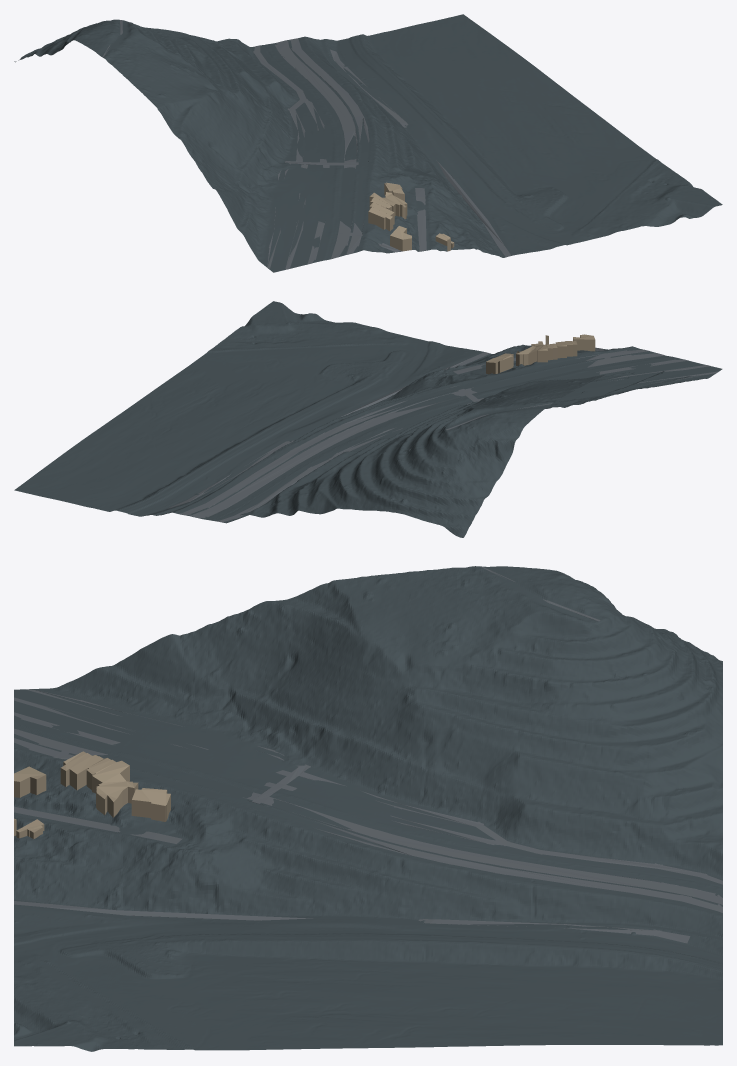
The model's file is epsg26910-1442-10870.lod0.glb.
3 renders of one model, top to bottom at view 1: azimuth 30°, elevation 25°; view 2: azimuth 150°, elevation 25°; view 3: azimuth 270°, elevation 25°, orthographic. The views are drawn at different scales.
Visible parts, largest first — view 1: epsg26910-1442-10870-lod0; view 2: epsg26910-1442-10870-lod0; view 3: epsg26910-1442-10870-lod0.
Part boxes in pixels (bbox=[...]): epsg26910-1442-10870-lod0: bbox=[14, 14, 722, 272]; epsg26910-1442-10870-lod0: bbox=[14, 301, 722, 537]; epsg26910-1442-10870-lod0: bbox=[14, 566, 722, 1051].
Size of the model in its own units: 384 by 114 by 384.
